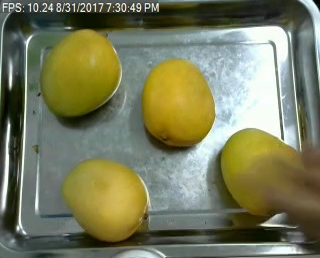Mango: (39, 27, 121, 121), (61, 157, 150, 242), (142, 62, 216, 145), (221, 128, 289, 216)
